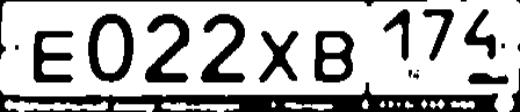0: (88, 13, 136, 83)
1: (382, 7, 413, 62)
2: (198, 13, 247, 84), (143, 12, 190, 84)
4: (463, 7, 498, 61)
7: (421, 8, 456, 63)
B: (314, 29, 356, 83)
E: (32, 29, 75, 85)
X: (259, 29, 300, 82)
